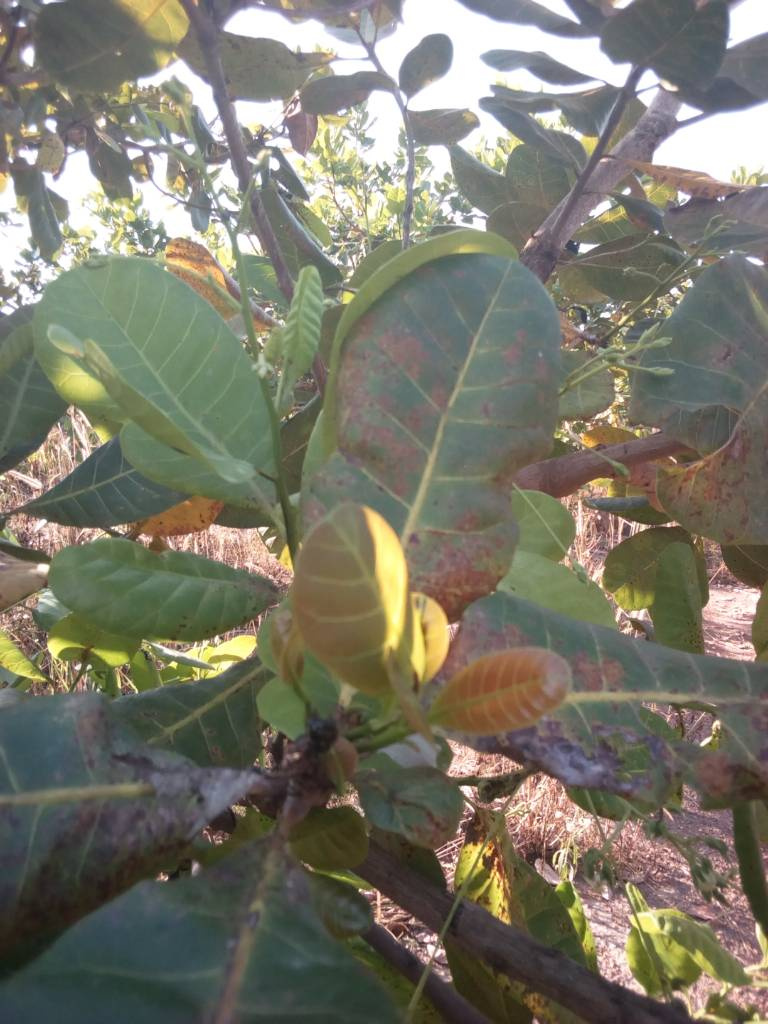Anthracnose: (461, 589, 765, 799), (1, 691, 229, 913)
